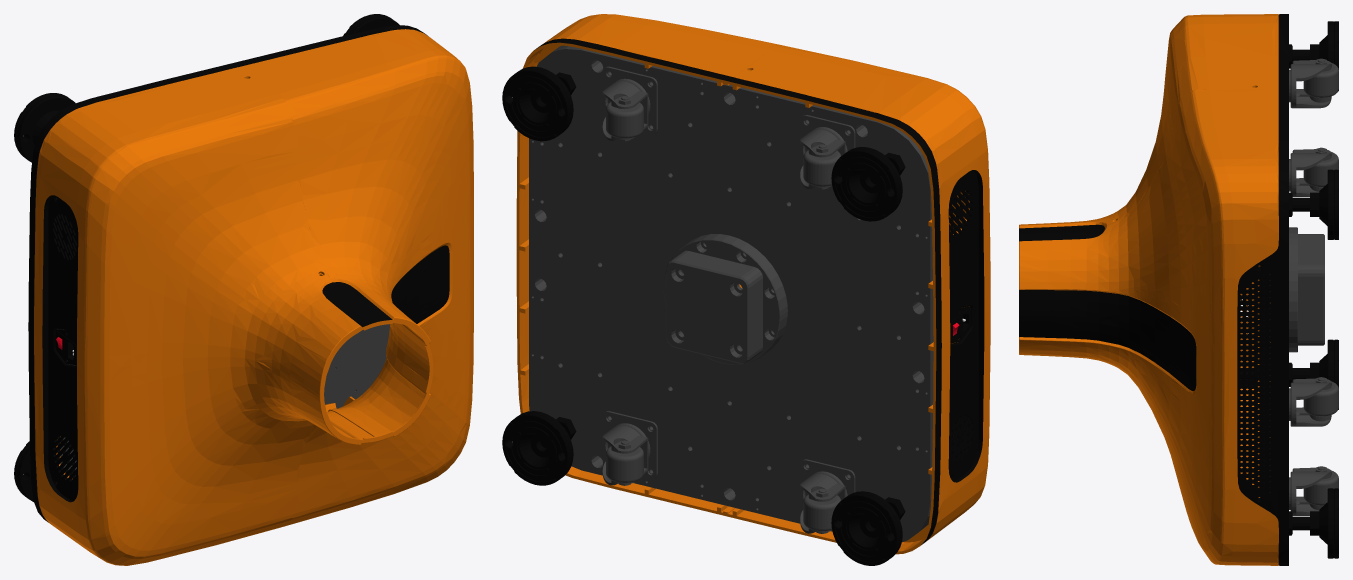
3 renders of one model, left to right at view 1: azimuth 30°, elevation 25°; view 2: azimuth 150°, elevation 25°; view 3: azimuth 270°, elevation 25°, orthographic. The views are drawn at different scales.
Parts seen in each view (by area): view 1: chassis cover, chassis base, foot2, foot3, foot1, charging case; view 2: chassis base, chassis cover, foot3, foot1, foot2, foot4, wheel4, wheel1, wheel2, wheel3; view 3: chassis cover, chassis base, wheel2, wheel3, wheel1, wheel4, foot4, foot1, foot3, foot2.
Part boxes in pixels (bbox=[...]): chassis cover: bbox=[28, 25, 473, 565]; chassis base: bbox=[58, 324, 389, 475]; foot2: bbox=[14, 93, 75, 162]; foot3: bbox=[14, 441, 33, 501]; foot1: bbox=[343, 14, 399, 35]; charging case: bbox=[55, 329, 76, 365]; chassis base: bbox=[529, 45, 933, 542]; chassis cover: bbox=[516, 14, 990, 554]; foot3: bbox=[831, 491, 902, 565]; foot1: bbox=[502, 66, 573, 141]; foot2: bbox=[831, 147, 902, 221]; foot4: bbox=[502, 411, 573, 485]; wheel4: bbox=[602, 411, 657, 485]; wheel1: bbox=[602, 66, 657, 141]; wheel2: bbox=[800, 115, 855, 189]; wheel3: bbox=[800, 459, 855, 533]; chassis cover: bbox=[1019, 14, 1288, 565]; chassis base: bbox=[1270, 227, 1324, 492]; wheel2: bbox=[1289, 58, 1338, 108]; wheel3: bbox=[1289, 377, 1338, 426]; wheel1: bbox=[1289, 147, 1338, 197]; wheel4: bbox=[1289, 466, 1338, 515]; foot4: bbox=[1292, 488, 1338, 558]; foot1: bbox=[1292, 169, 1338, 239]; foot3: bbox=[1240, 339, 1338, 409]; foot2: bbox=[1292, 21, 1338, 91].
Bounding box in the file's own units: 0.6374 × 0.632 × 0.455.
